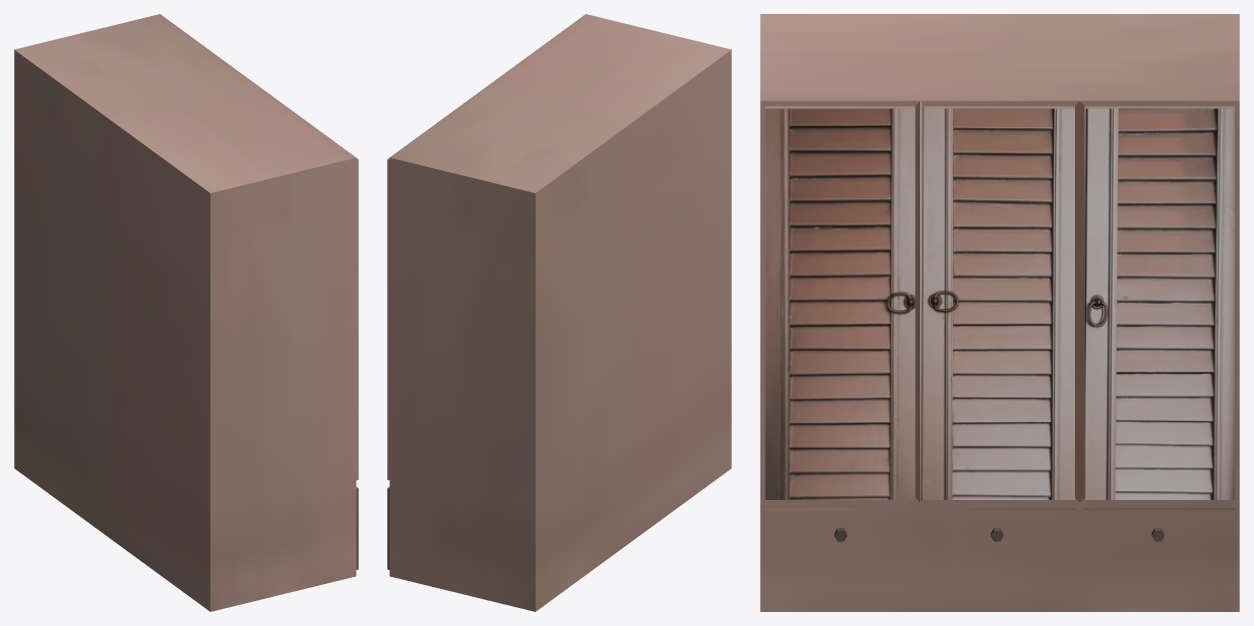
File: WARDROBE_02.fbx
The picture shows the model from 3 angles, left to right: view 1: azimuth 30°, elevation 25°; view 2: azimuth 150°, elevation 25°; view 3: azimuth 270°, elevation 25°; orthographic projection. The views are drawn at different scales.
Visible parts, largest first — view 1: WARDROBE_02; view 2: WARDROBE_02; view 3: WARDROBE_02.
Boxes of the visible parts, box(x1,y1,x2,y2) form: WARDROBE_02: box(14, 14, 358, 611); WARDROBE_02: box(387, 14, 731, 611); WARDROBE_02: box(760, 14, 1239, 611).
Bounding box in the file's own units: 72.87 × 188 × 159.
